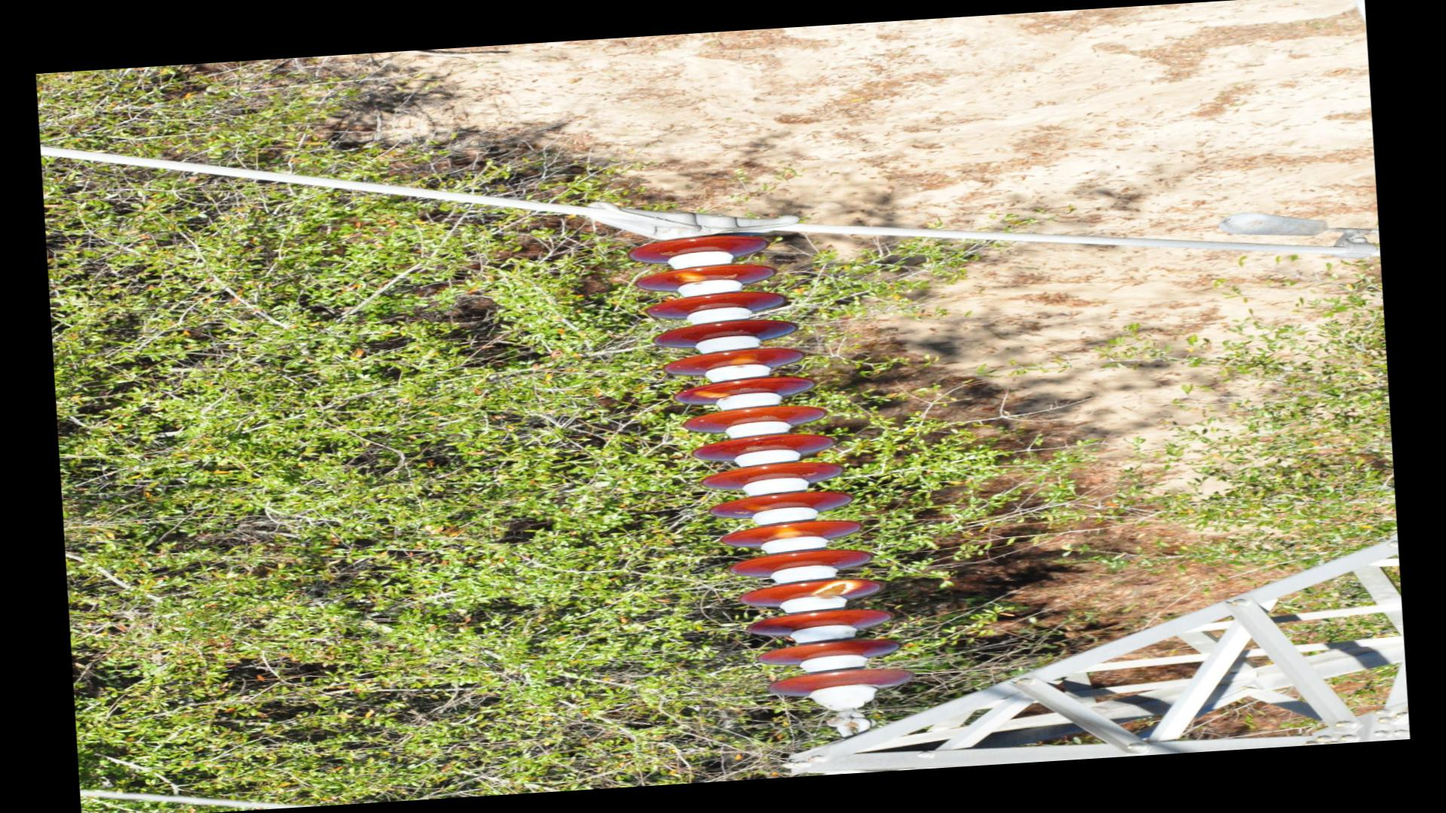damper: (1211, 199, 1380, 273)
